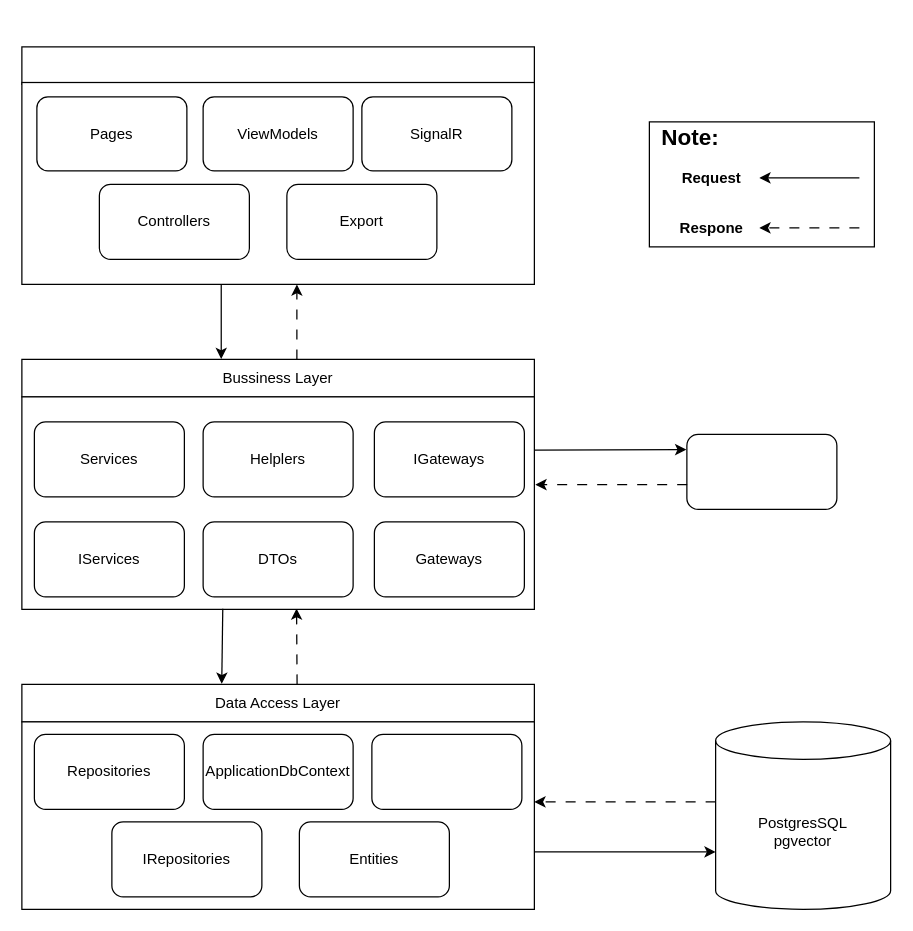
Some shapes in this 913 by 931 pixel diagram are drawn without their labels. The centre of each missing label's shape, as x and y in pixels:
AI Services: point 761,471
Migrations: point 446,771
Presentation Layer: point 277,65
